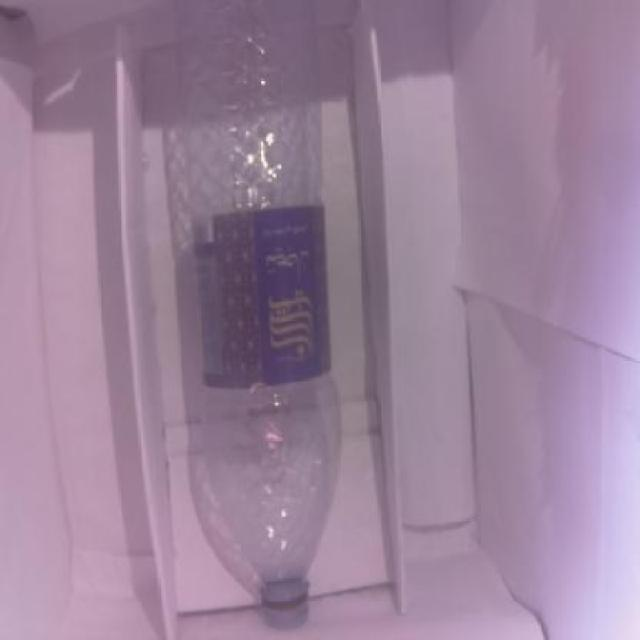Pet_Bottle: (167, 0, 355, 629)
